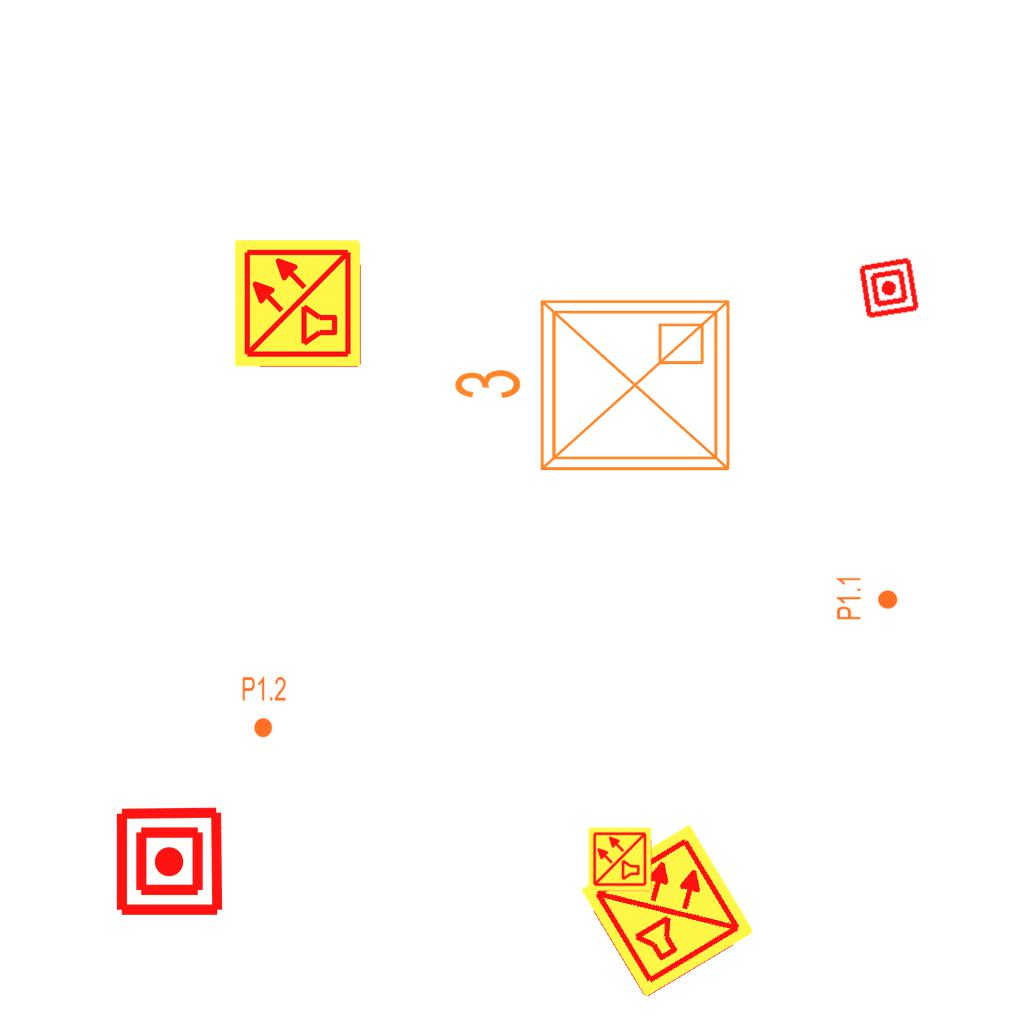Downlight_LED_Einbauleuchten_Flur: (241, 675, 287, 739), (835, 575, 899, 621)
Einbaudownlights_LED_Konferenzraeume: (444, 285, 744, 493)
NAM-Nichtautomatischer_Melder: (113, 805, 226, 918), (856, 255, 922, 321)
OKW_Multisensormelder_(Kombination_optischer_Rauch-Kahlenmonoxid_Waerme-Melder): (577, 820, 759, 1002), (232, 237, 364, 369), (587, 826, 653, 892)
